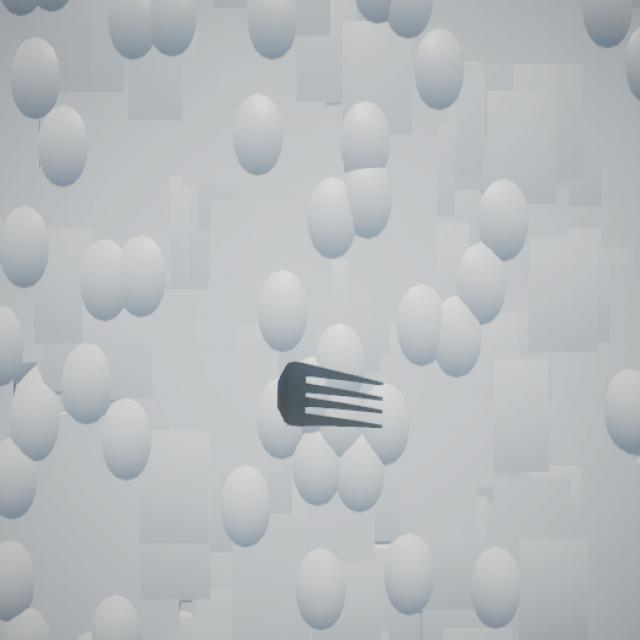top_folk: (278, 363, 384, 429)
